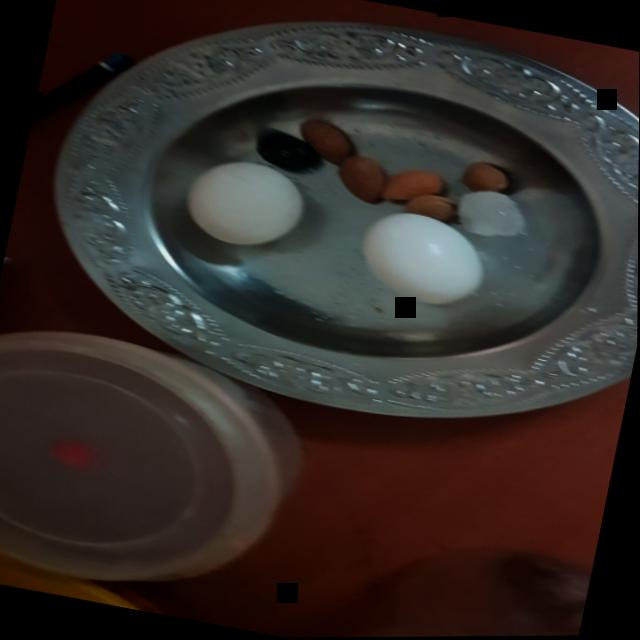eggs: (350, 200, 499, 314), (180, 150, 310, 257)
